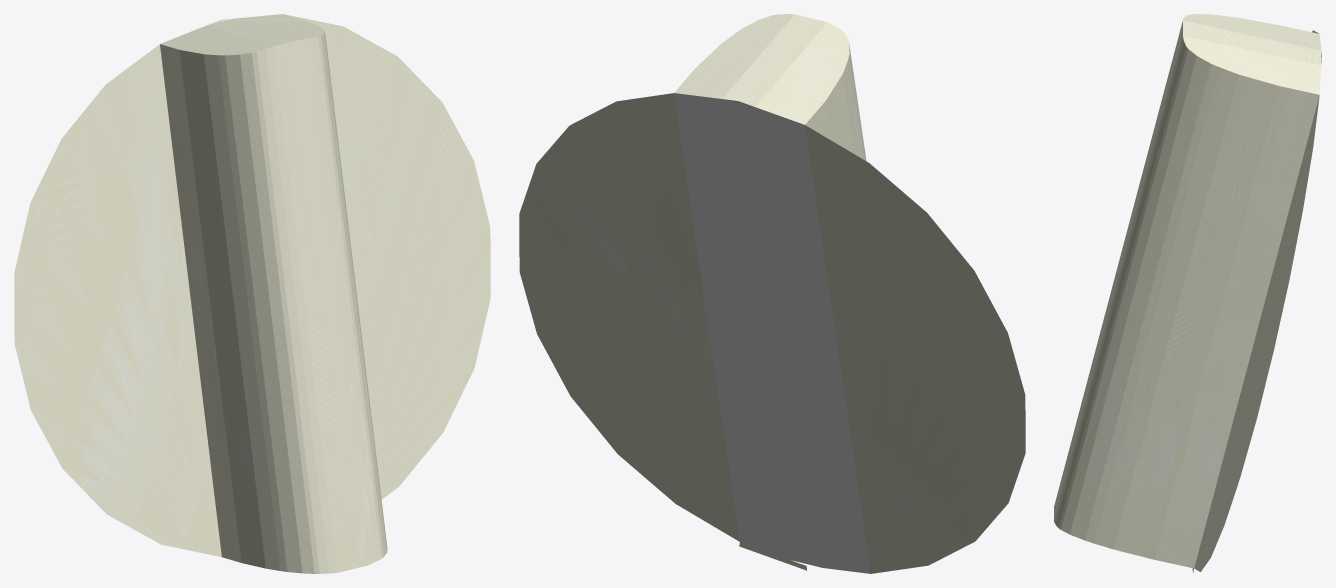
Rendered from original-39.obj.
3 views of the same model, side by side, from view 1: azimuth 30°, elevation 25°; view 2: azimuth 150°, elevation 25°; view 3: azimuth 270°, elevation 25° (orthographic). The views are drawn at different scales.
Visible parts, largest first — view 1: mesh11/mesh11-geometry/material_1#mesh11-geometry; view 2: mesh11/mesh11-geometry/material_1#mesh11-geometry; view 3: mesh11/mesh11-geometry/material_1#mesh11-geometry.
Boxes of the visible parts, x1=… form: mesh11/mesh11-geometry/material_1#mesh11-geometry: x1=14, y1=14, x2=490, y2=573; mesh11/mesh11-geometry/material_1#mesh11-geometry: x1=519, y1=14, x2=1025, y2=573; mesh11/mesh11-geometry/material_1#mesh11-geometry: x1=1054, y1=14, x2=1321, y2=572.
Size of the model in its own units: 0.0532 by 0.0552 by 0.0256.
